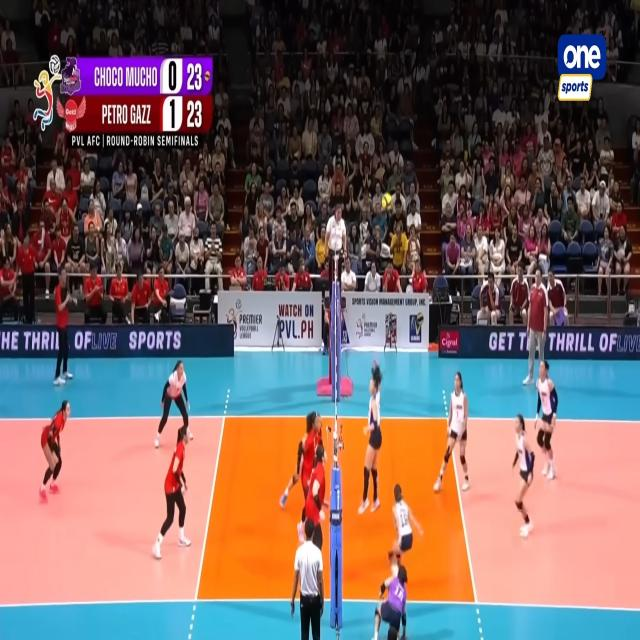Volleyball-Ball: (381, 191, 392, 210)
